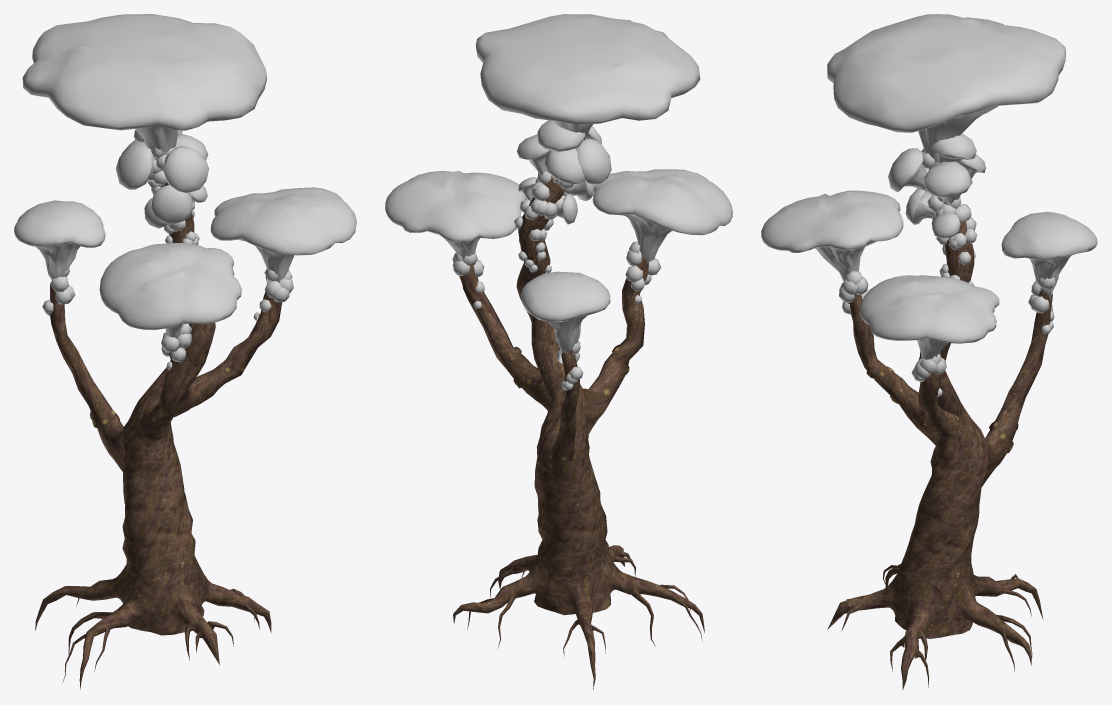
File: Shrooomtree_1_L1.fbx
The picture shows the model from 3 angles, left to right: view 1: azimuth 30°, elevation 25°; view 2: azimuth 150°, elevation 25°; view 3: azimuth 270°, elevation 25°; orthographic projection.
Visible parts, largest first — view 1: polySurface64; view 2: polySurface64; view 3: polySurface64.
Part boxes in pixels (bbox=[...]): polySurface64: bbox=[14, 14, 356, 689]; polySurface64: bbox=[385, 14, 732, 689]; polySurface64: bbox=[761, 14, 1097, 689].
Size of the model in its own units: 655 by 1283 by 643.
